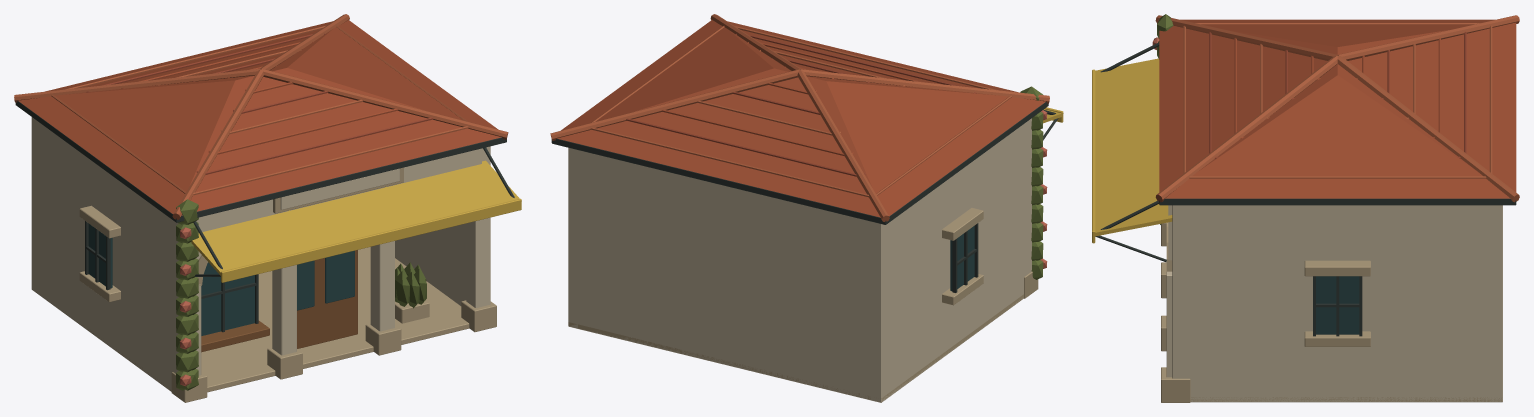
The model's file is cafe.glb.
The picture shows the model from 3 angles, left to right: view 1: azimuth 30°, elevation 25°; view 2: azimuth 150°, elevation 25°; view 3: azimuth 270°, elevation 25°; orthographic projection. The views are drawn at different scales.
Parts seen in each view (by area): view 1: cafe.001; view 2: cafe.001; view 3: cafe.001.
Boxes of the visible parts, box(x1,y1,x2,y2) form: cafe.001: box(14, 14, 521, 402); cafe.001: box(550, 14, 1063, 402); cafe.001: box(1092, 14, 1519, 402).
Size of the model in its own units: 6.49 by 4.4 by 6.47.
